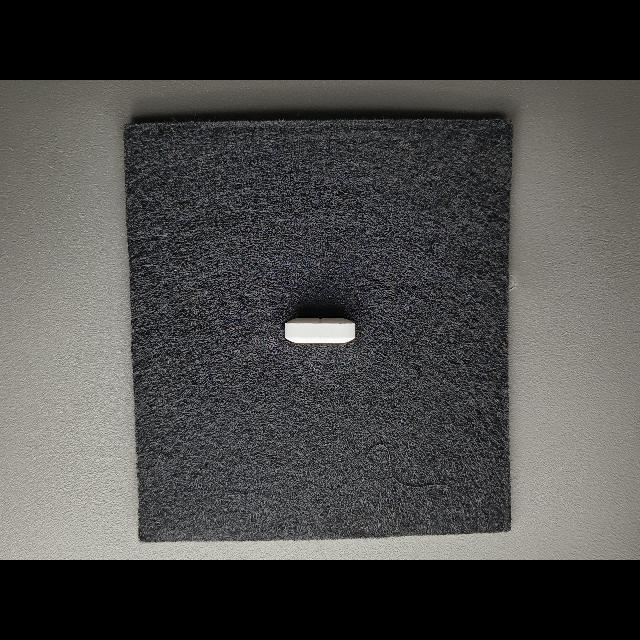Intact Pill: (284, 318, 355, 344)
